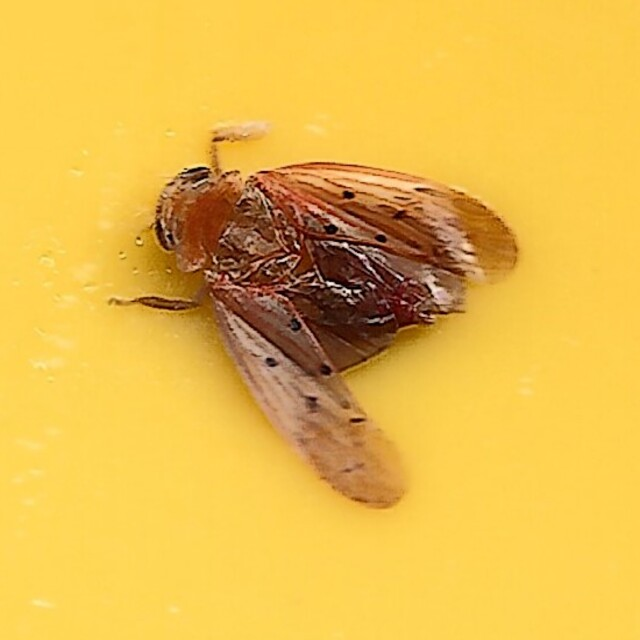Hemiptera: (116, 125, 524, 515)
